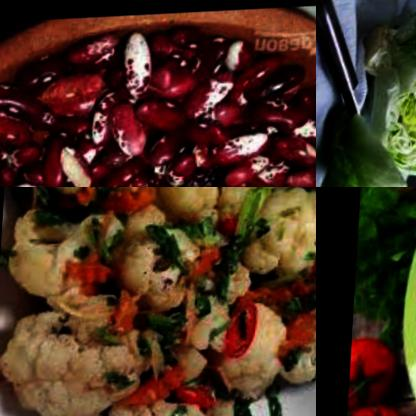cayliflower: (0, 298, 158, 416), (1, 207, 130, 314), (205, 290, 316, 403), (233, 190, 316, 299), (119, 215, 206, 314), (68, 382, 252, 416), (145, 187, 274, 233)
fasol: (0, 24, 316, 187)
salad: (358, 0, 416, 183), (317, 105, 416, 187)
tomato: (351, 334, 407, 408), (347, 399, 414, 416)
